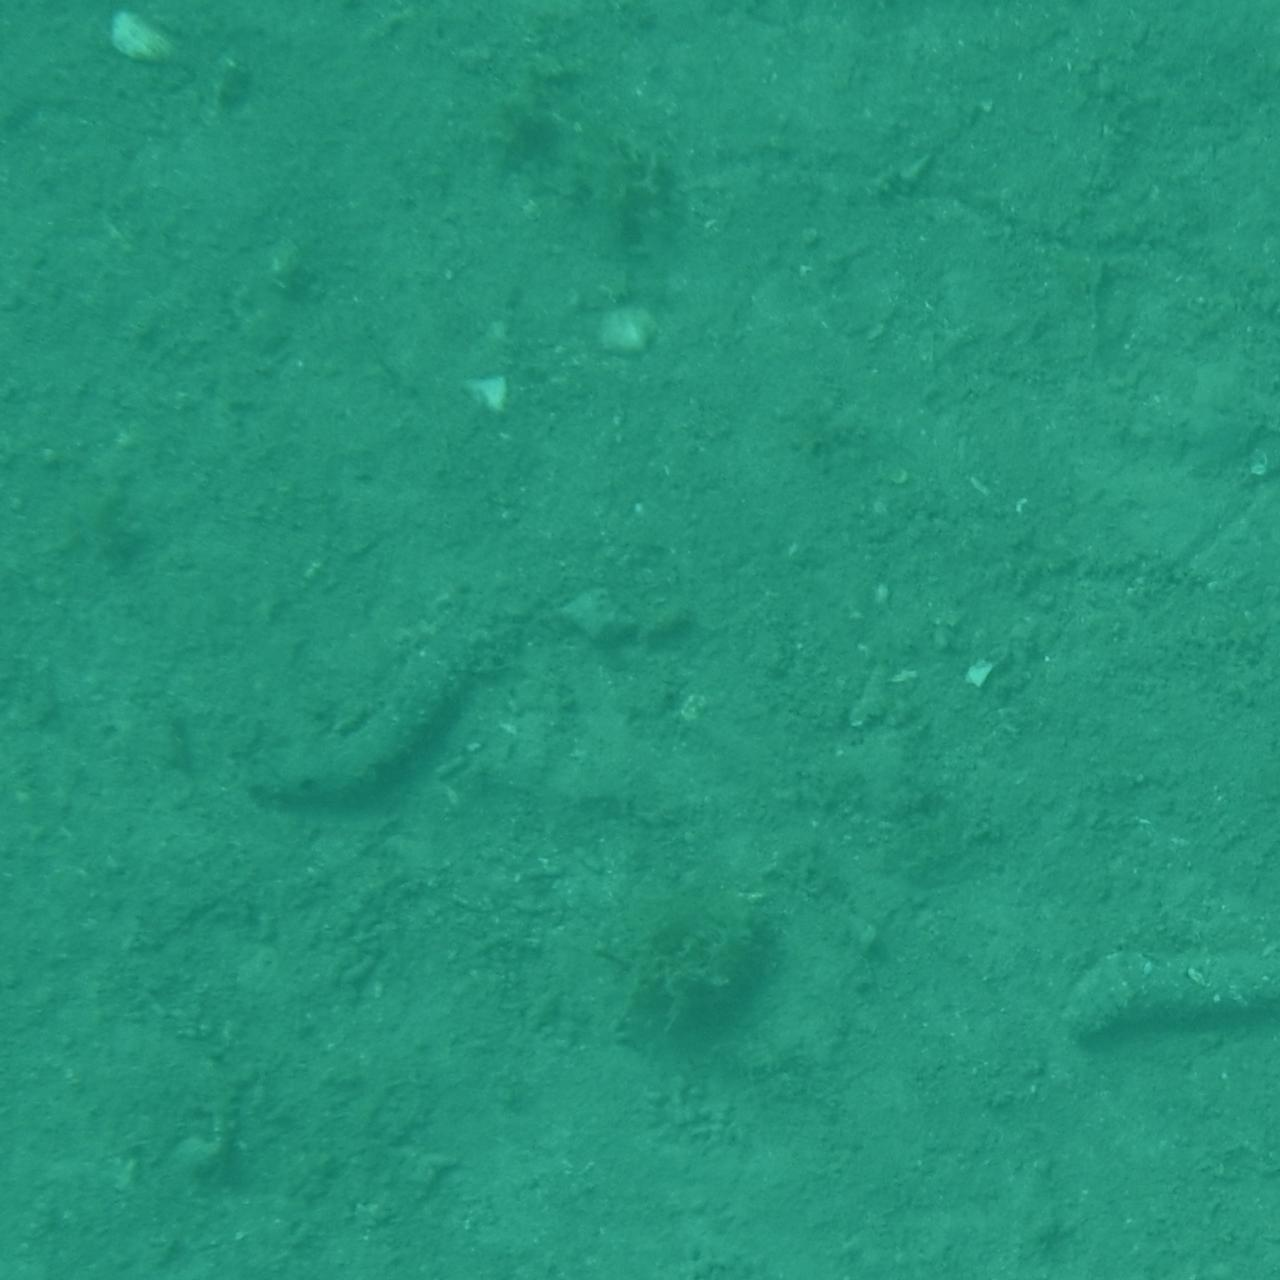Holothuria tubulosa: (244, 599, 512, 825), (0, 113, 226, 256), (1058, 925, 1280, 1065), (1182, 558, 1280, 831), (1203, 953, 1280, 1239)
